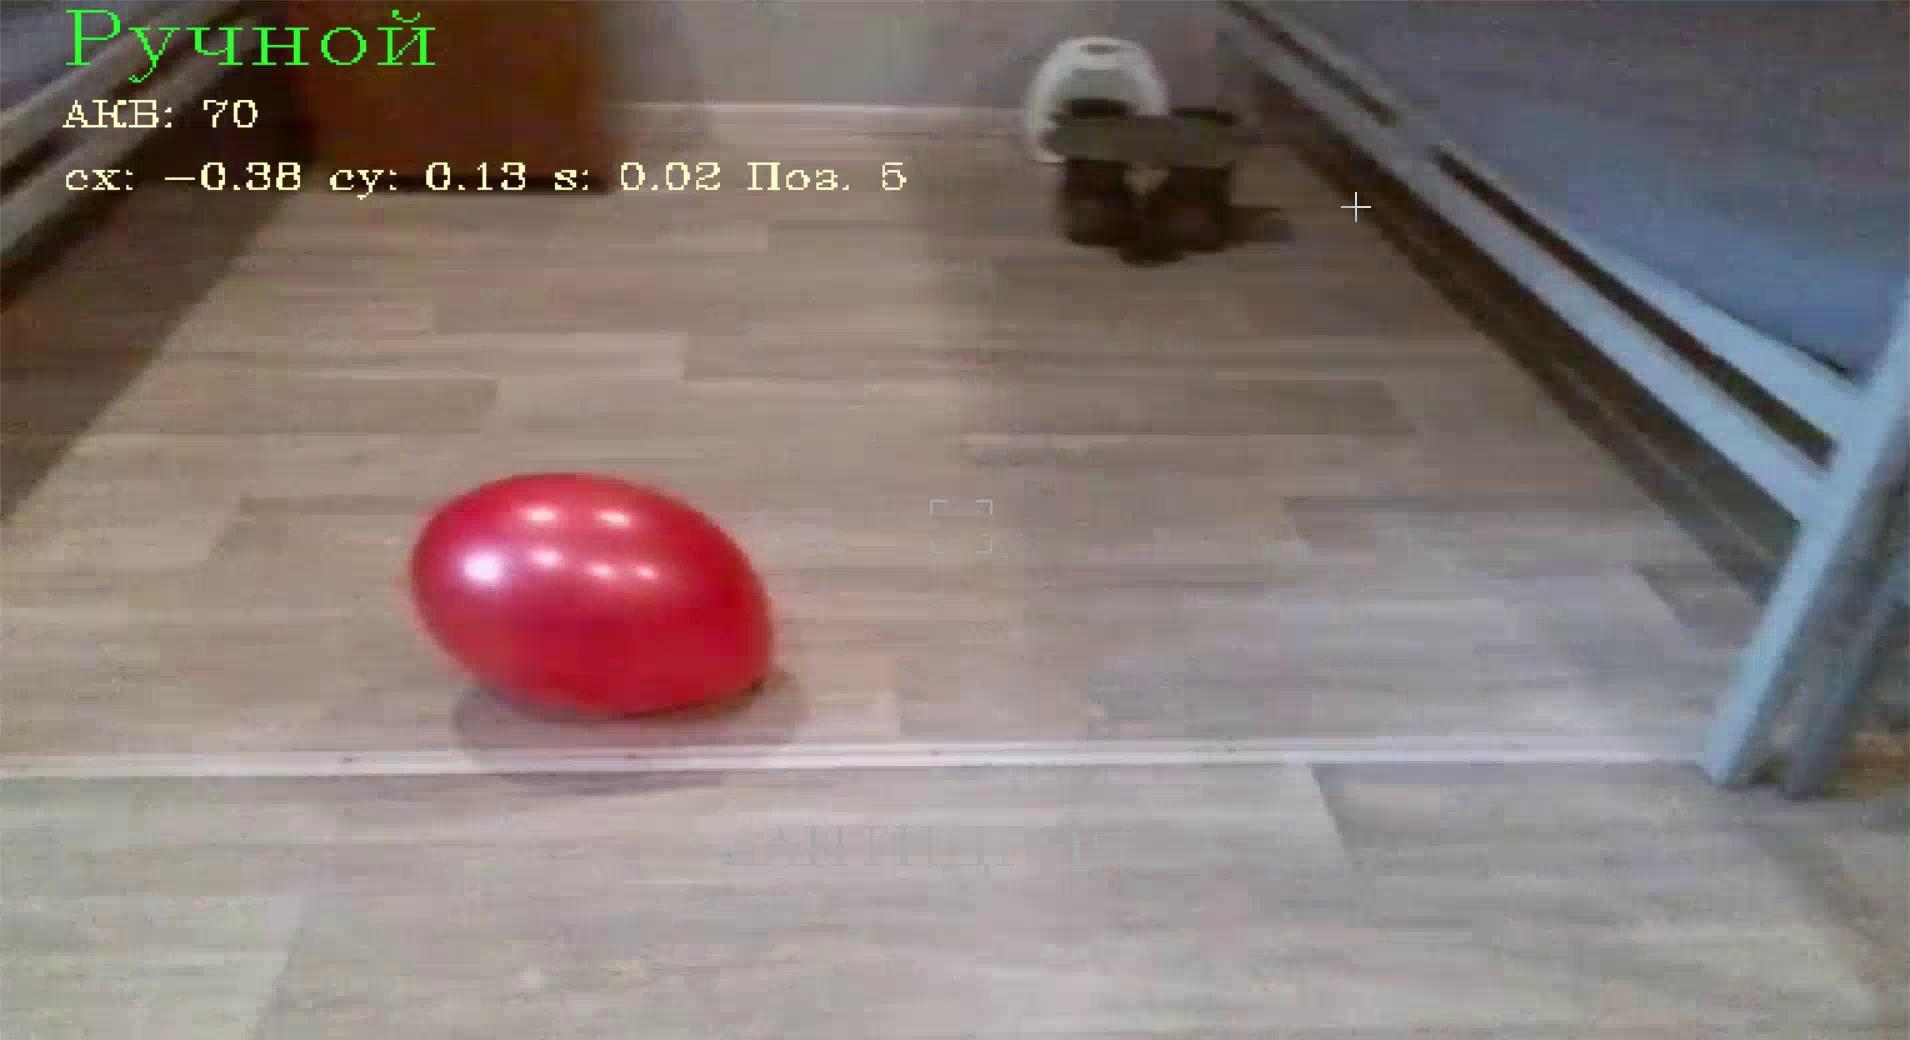red: (403, 460, 780, 736)
